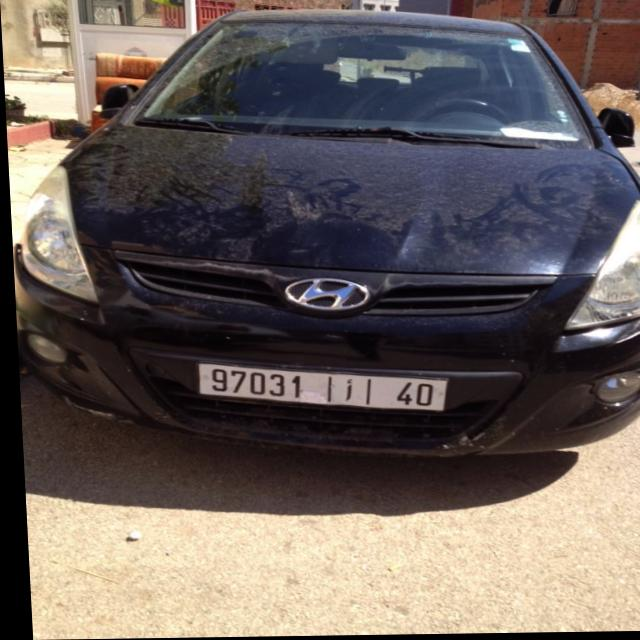License-Plate: (193, 363, 444, 412)
